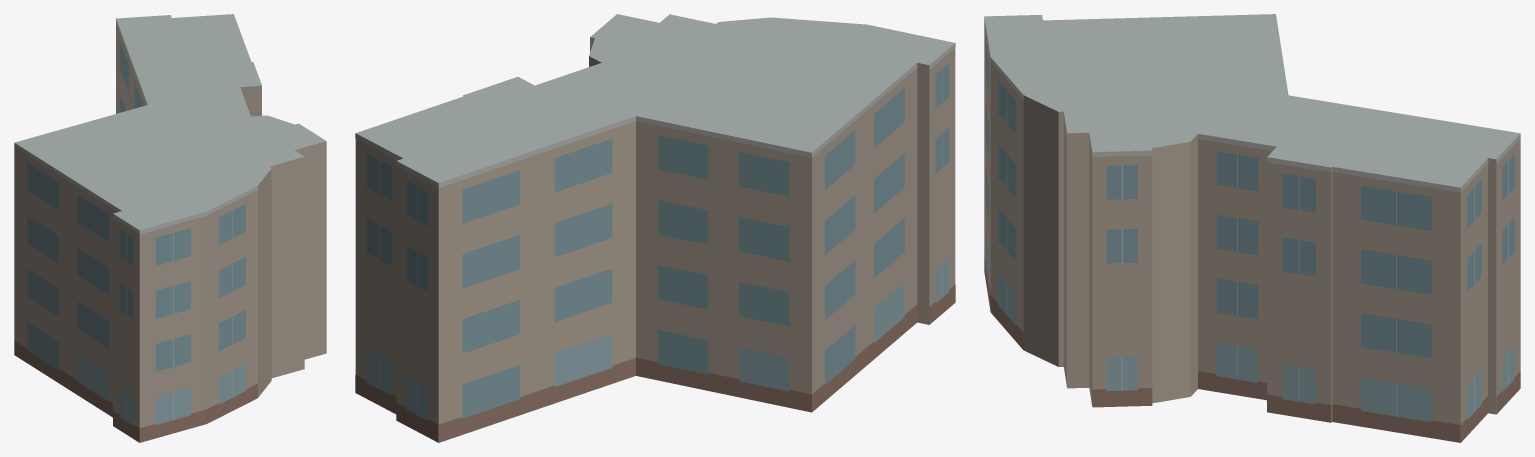
File: survey-upis-33002152.glb
3 views of the same model, side by side, from view 1: azimuth 30°, elevation 25°; view 2: azimuth 150°, elevation 25°; view 3: azimuth 270°, elevation 25° (orthographic). The views are drawn at different scales.
Parts seen in each view (by area): view 1: survey-upis-33002152.tmp; view 2: survey-upis-33002152.tmp; view 3: survey-upis-33002152.tmp.
Boxes of the visible parts, x1=… form: survey-upis-33002152.tmp: x1=14, y1=14, x2=326, y2=442; survey-upis-33002152.tmp: x1=355, y1=14, x2=955, y2=442; survey-upis-33002152.tmp: x1=984, y1=14, x2=1520, y2=442.
Bounding box in the file's own units: 18.55 × 12.7 × 24.19.
